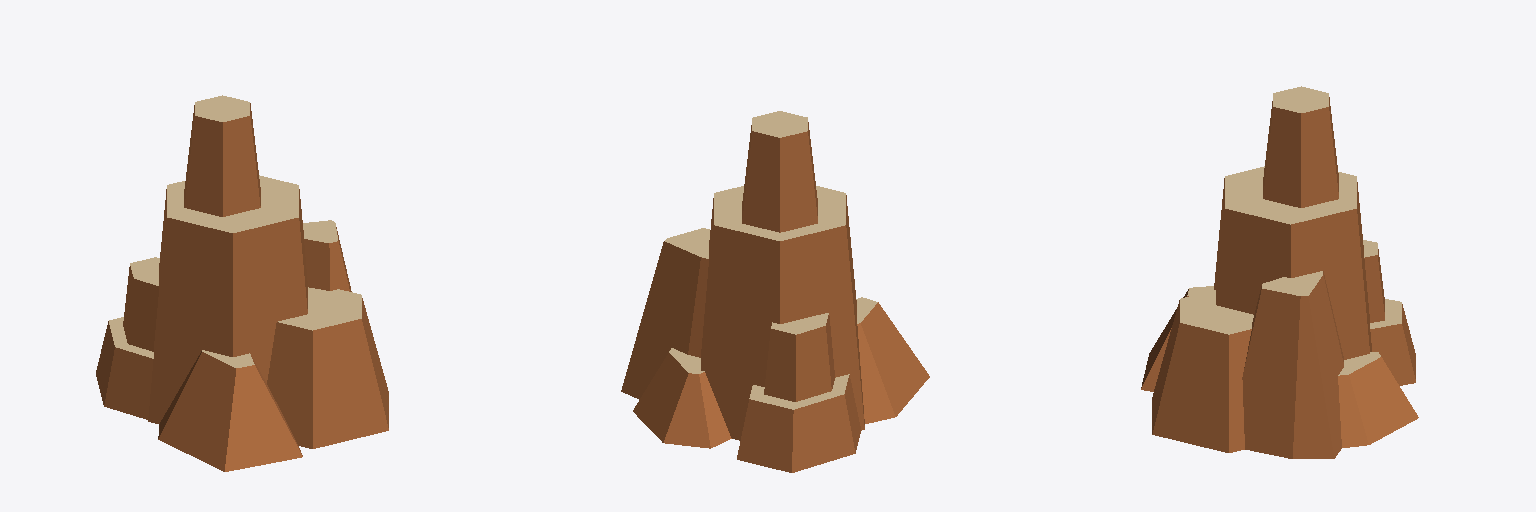
The model's file is formation_rock.obj.
3 views of the same model, side by side, from view 1: azimuth 30°, elevation 25°; view 2: azimuth 150°, elevation 25°; view 3: azimuth 270°, elevation 25° (orthographic).
Parts seen in each view (by area): view 1: formation_rock; view 2: formation_rock; view 3: formation_rock.
Boxes of the visible parts, x1,y1,x2,y2 form: formation_rock: [96, 95, 388, 471]; formation_rock: [621, 111, 929, 472]; formation_rock: [1141, 86, 1418, 458].
Size of the model in its own units: 10.6 by 12.25 by 10.67.